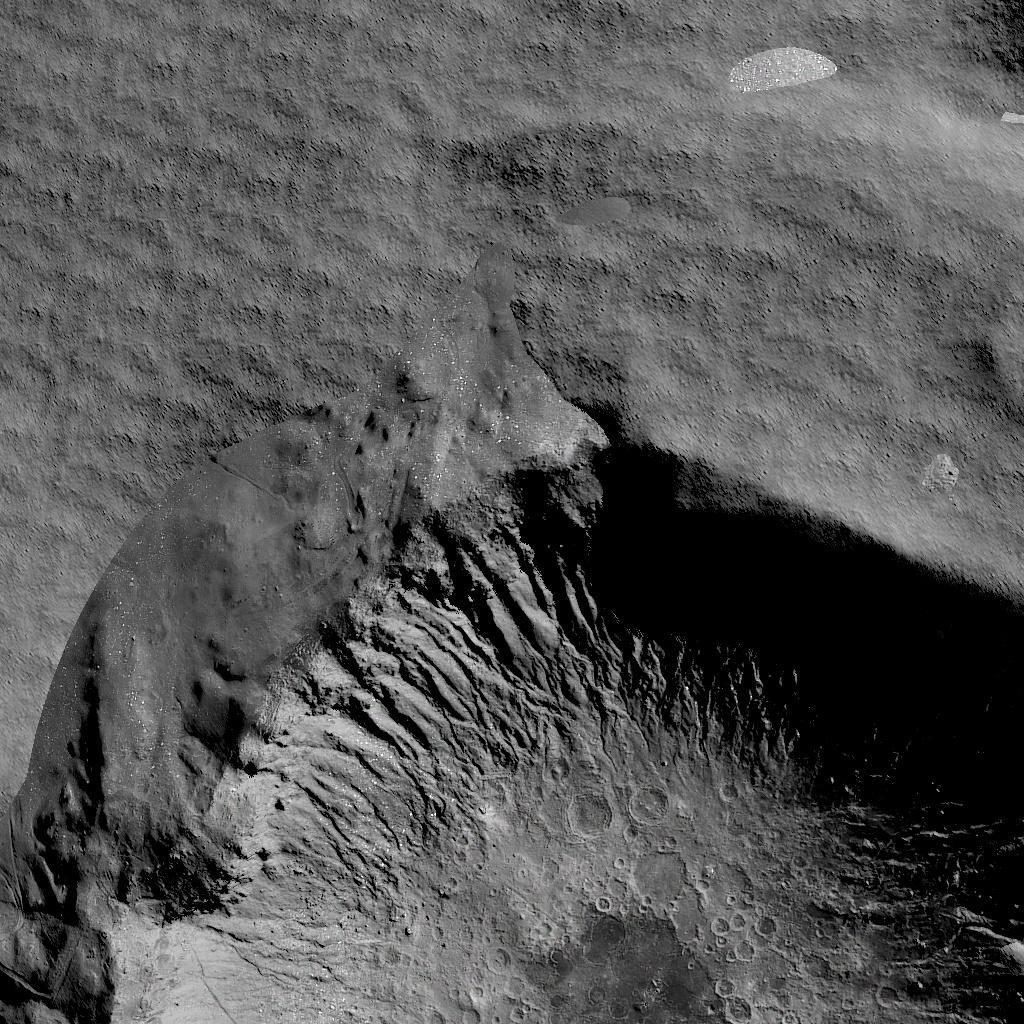Crater: (0, 448, 1024, 1020), (934, 0, 1024, 127)
Plan surface: (3, 5, 918, 421)
